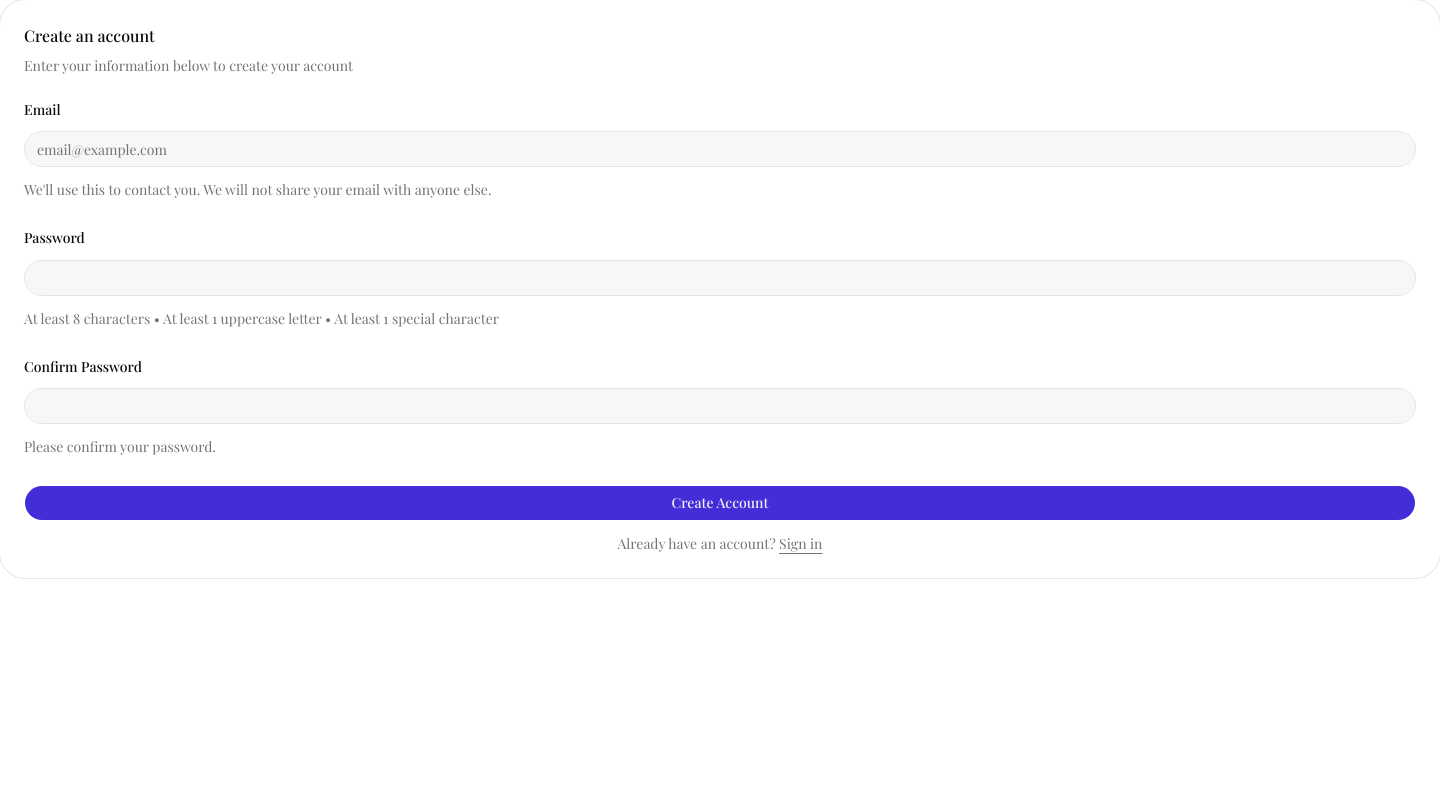
Test: SignupForm › shows error when password has no uppercase letter
Type "test@example.com" into the field labelled "Email" at (720,149), box [24,131,1416,167]
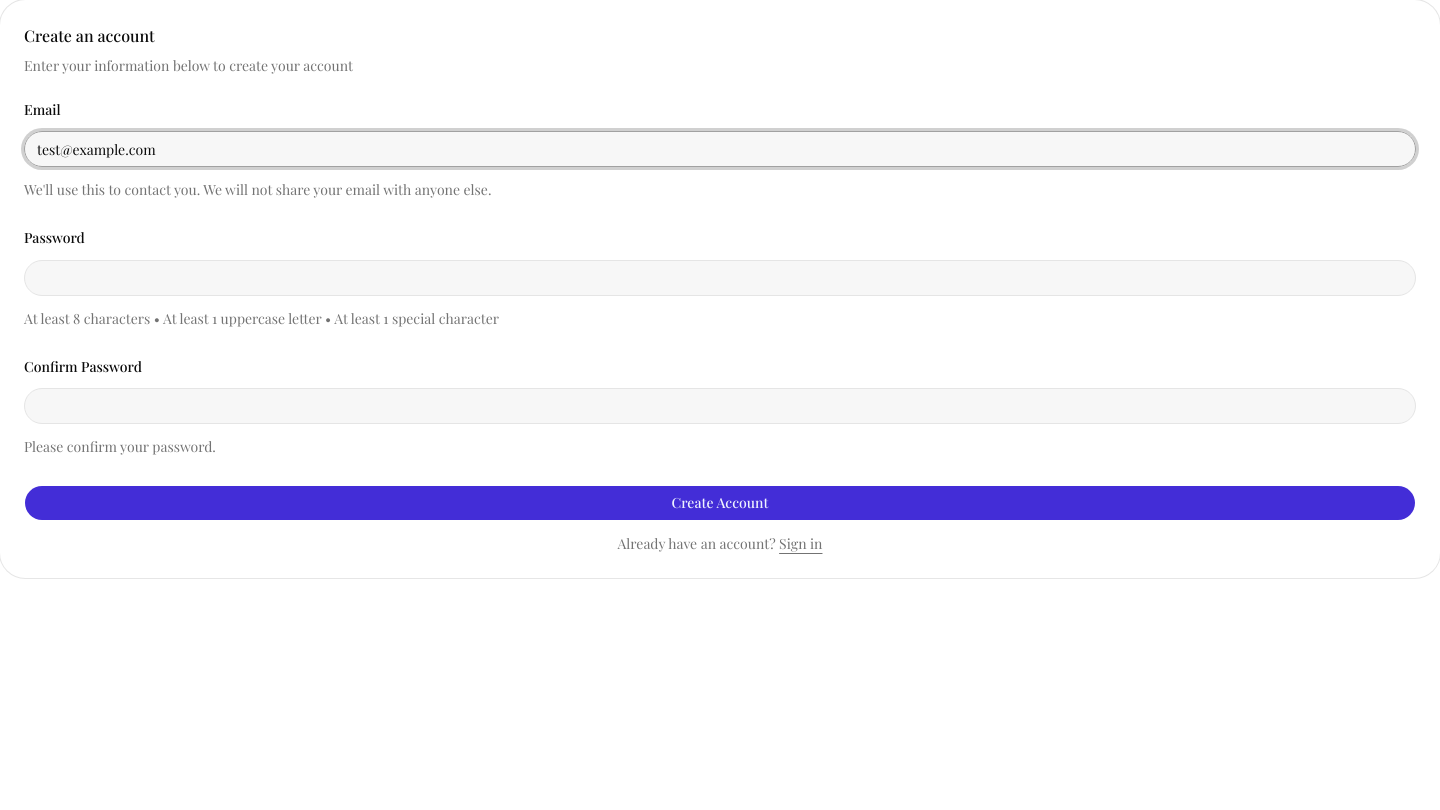
Type "password1!" into the password field labelled "Password" at (720,278), box [24,260,1416,296]
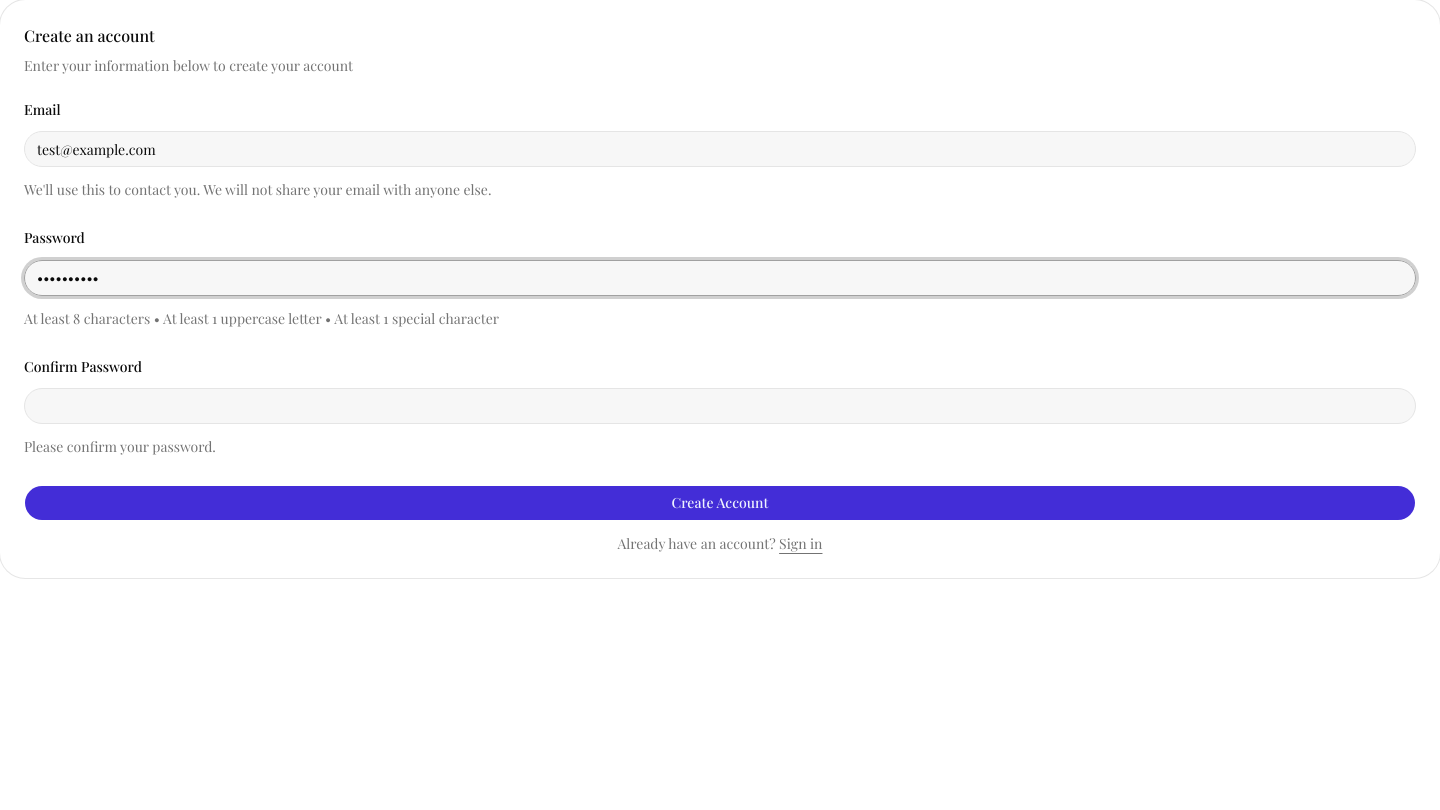
Type "password1!" into the password field labelled "Confirm Password" at (720,406), box [24,388,1416,424]
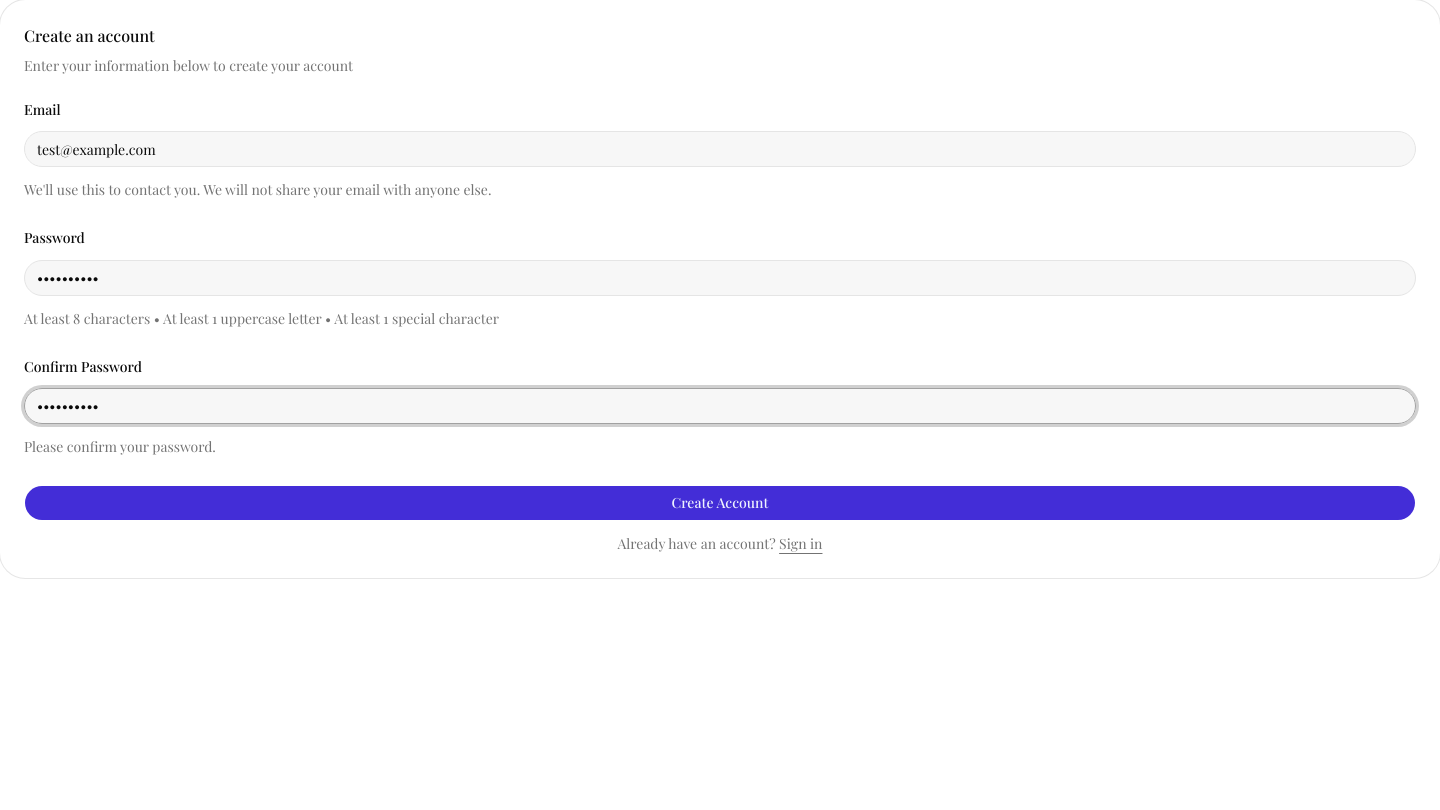
Click the button "Create Account" at (720,503), box [24,485,1416,521]
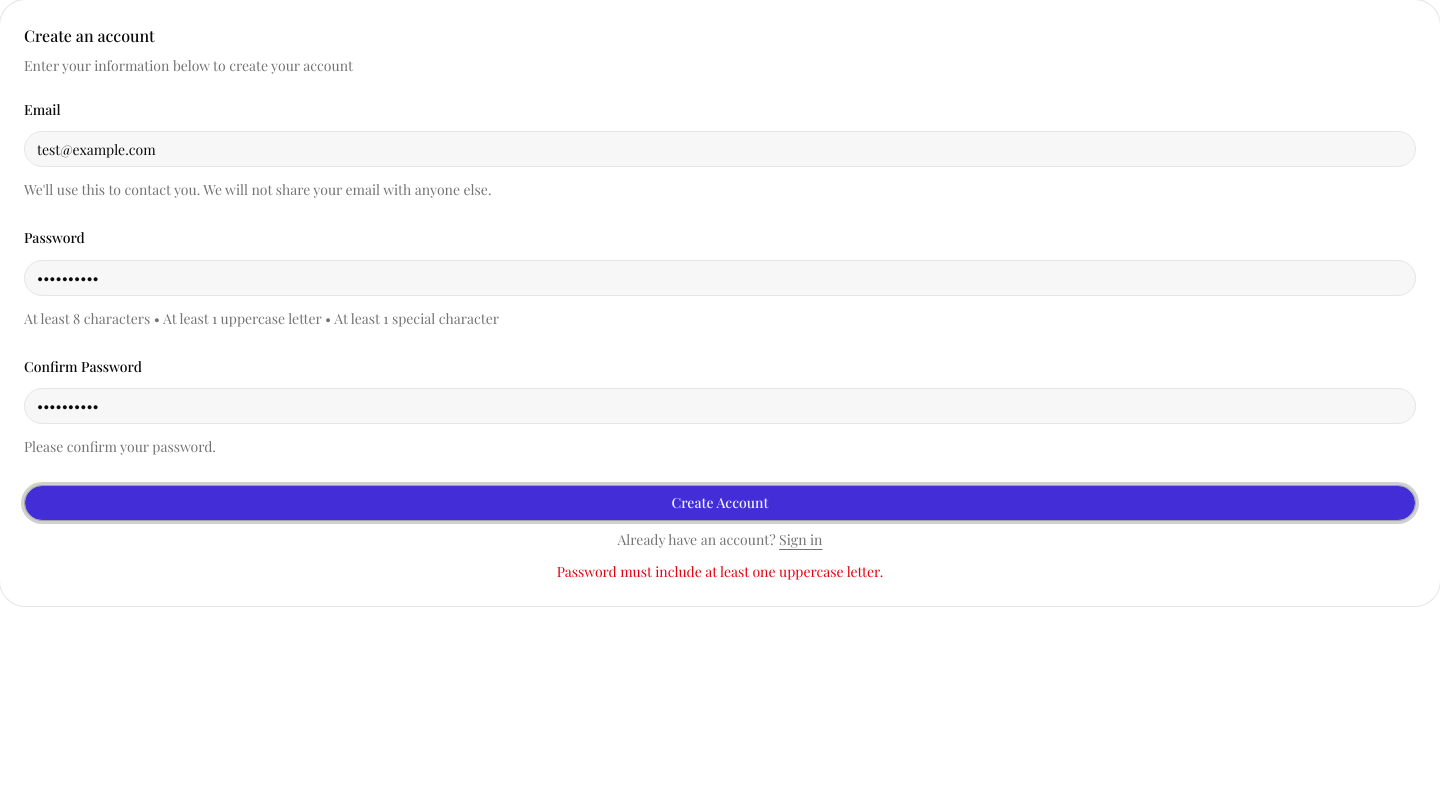
Expected: the text "Password must include at least one uppercase letter." is shown, [557,562,883,581]
